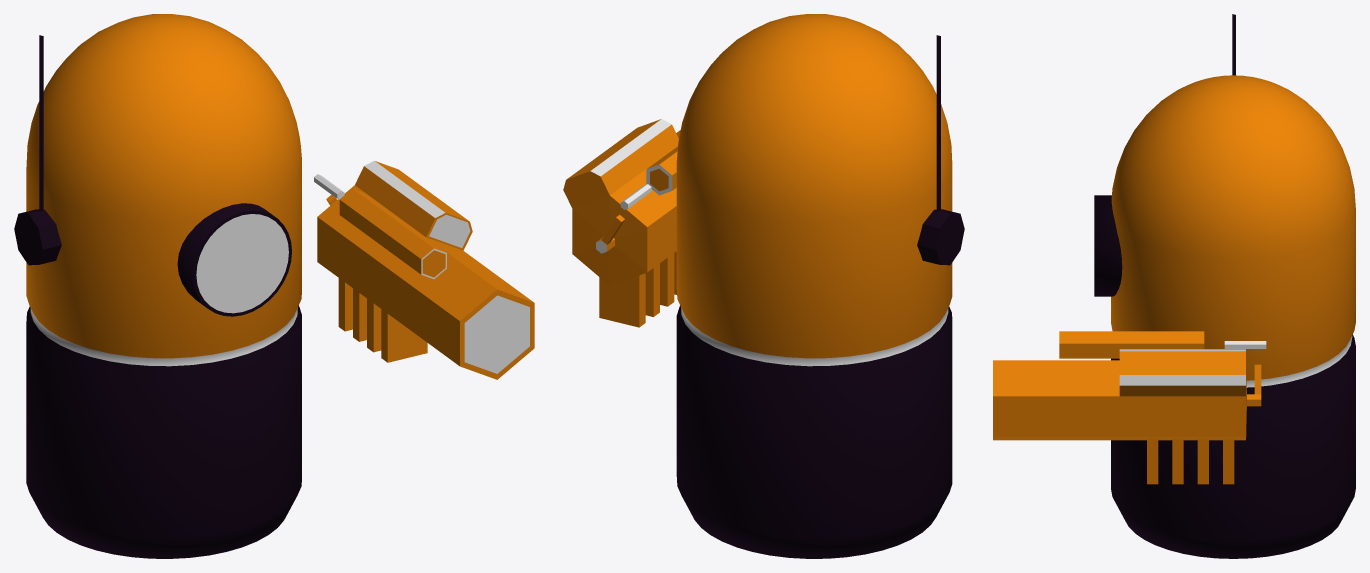
File: PLayerModel.fbx
3 renders of one model, left to right at view 1: azimuth 30°, elevation 25°; view 2: azimuth 150°, elevation 25°; view 3: azimuth 270°, elevation 25°, orthographic. The views are drawn at different scales.
Visible parts, largest first — view 1: body, Tool, eye, antenna; view 2: body, Tool, antenna; view 3: body, Tool, eye.
Part boxes in pixels (left/top/right/bottom): body: left=26, top=14, right=301, bottom=558; Tool: left=314, top=160, right=534, bottom=379; eye: left=177, top=203, right=291, bottom=316; antenna: left=14, top=35, right=61, bottom=265; body: left=676, top=14, right=952, bottom=558; Tool: left=563, top=119, right=680, bottom=327; antenna: left=917, top=35, right=964, bottom=265; body: left=1111, top=75, right=1355, bottom=558; Tool: left=993, top=331, right=1266, bottom=484; eye: left=1094, top=195, right=1122, bottom=296.
Bounding box in the file's own units: 154 × 194 × 143.
